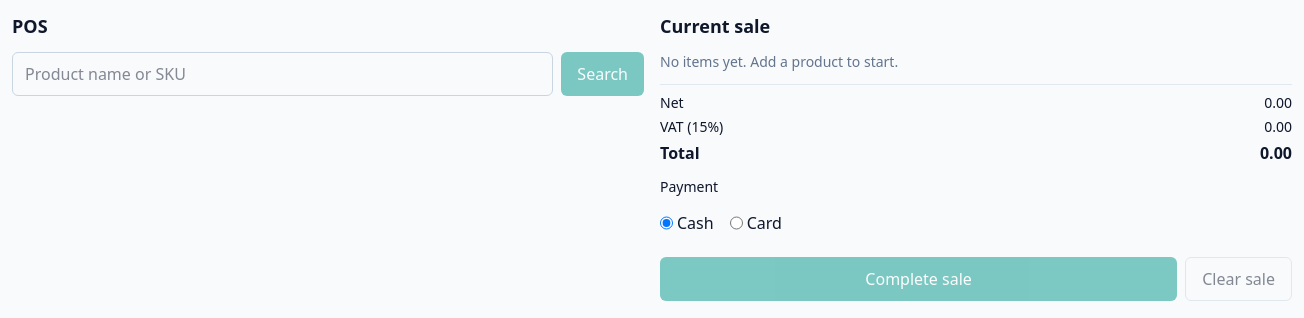
it: PosPage › shows result buttons by product name in English
Type "coffee" into the search field named "Search product". click: point(283, 74)
box: left=12, top=52, right=553, bottom=96
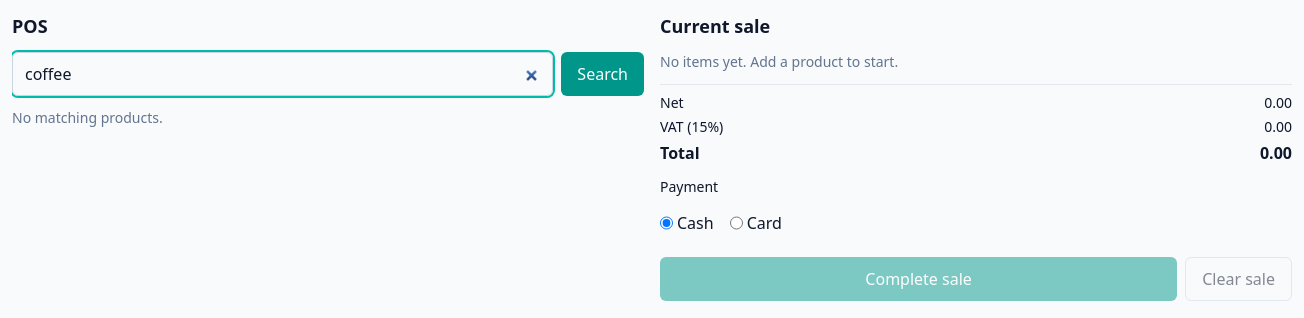
Click the button "Search". click: point(603, 74)
box: left=561, top=52, right=644, bottom=96
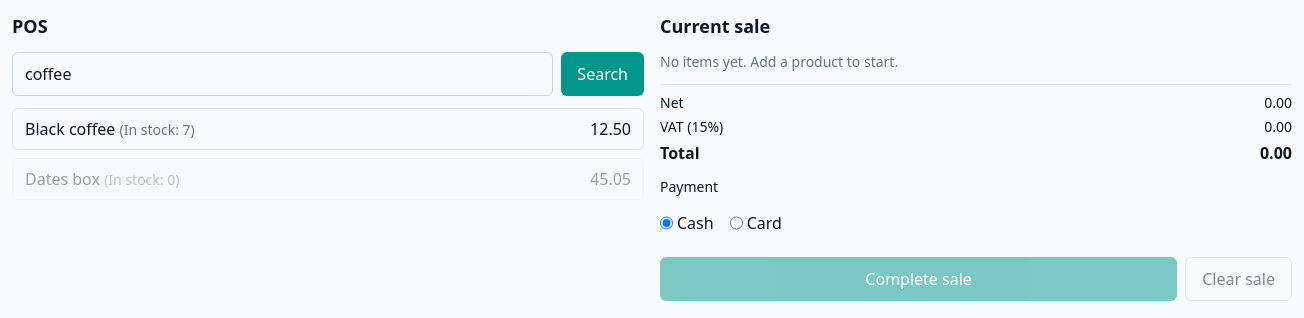
Result: the text "Black coffee" is shown at left=25, top=118, right=115, bottom=140
